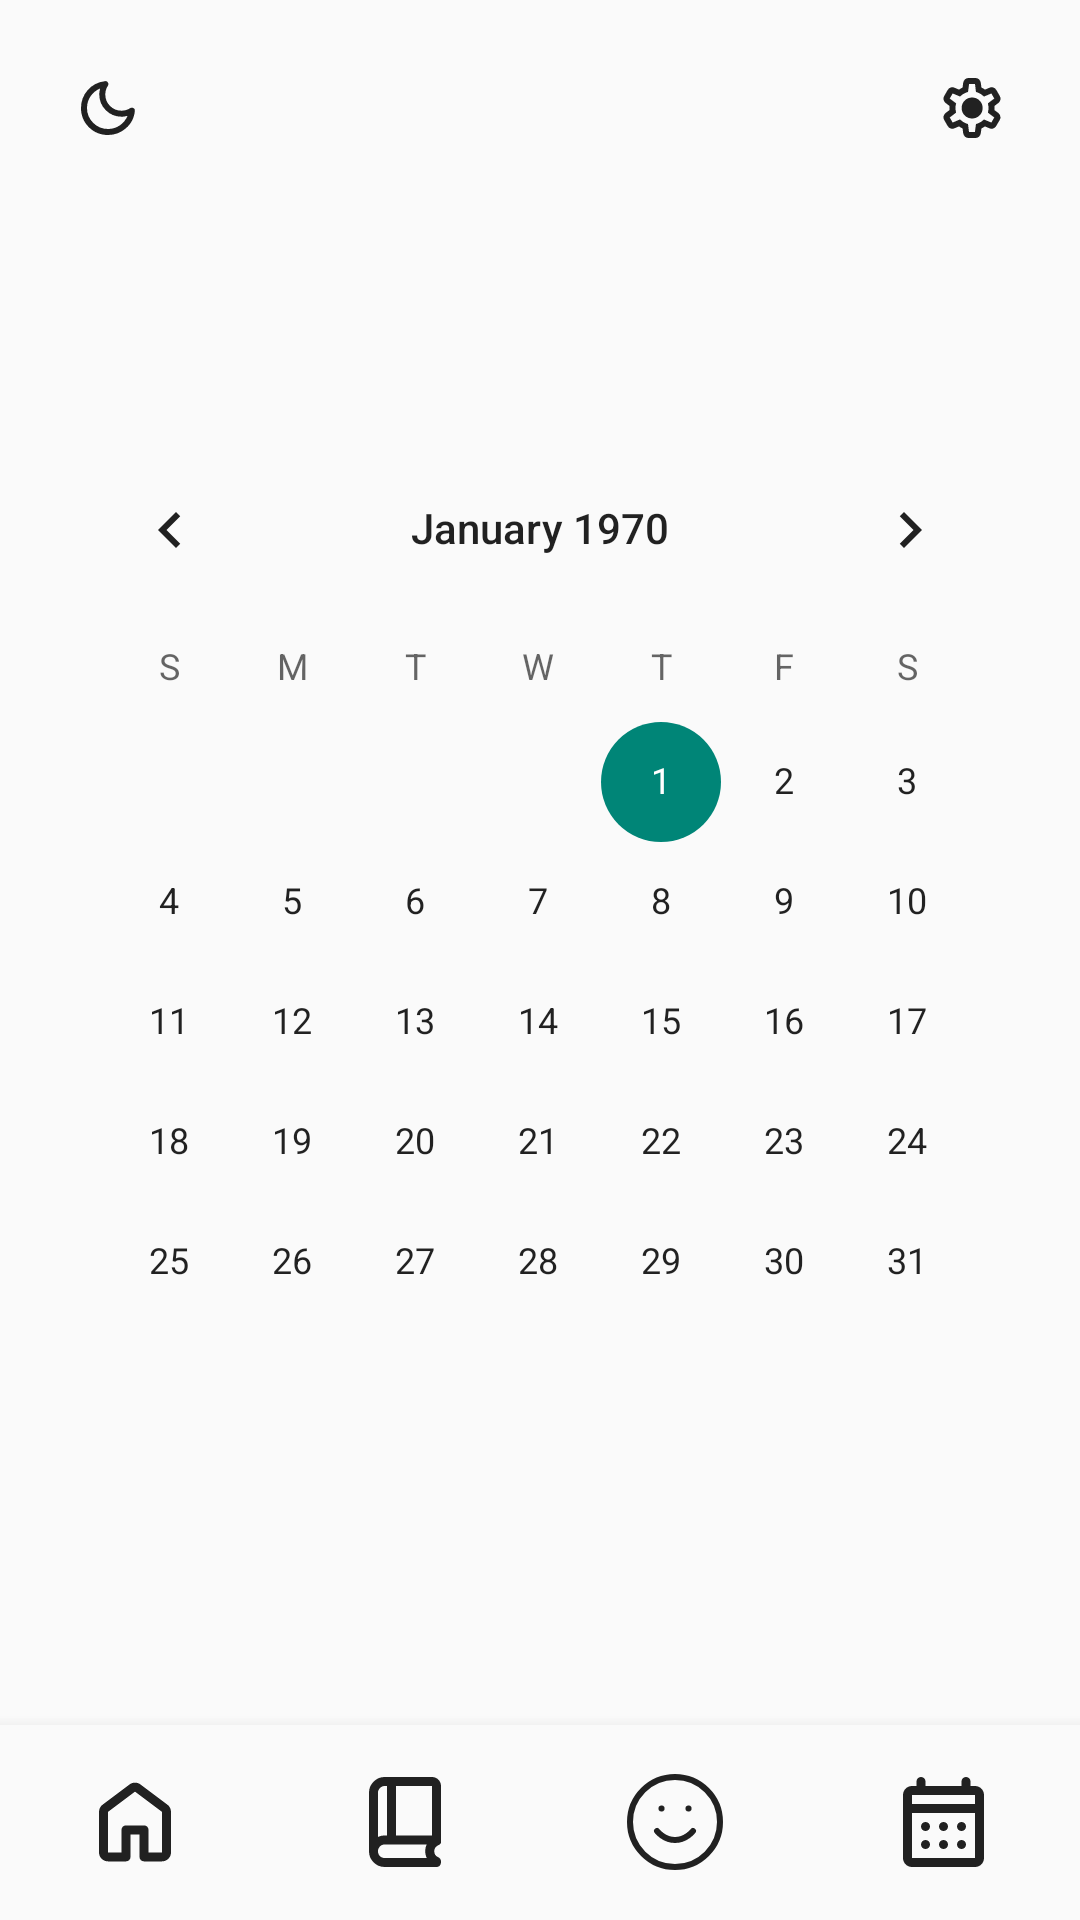

Named icons in this screenshot (1080px×1920px) and their centers, (x=x, y=y):
다크모드: (x=108, y=108)
설정: (x=972, y=108)
